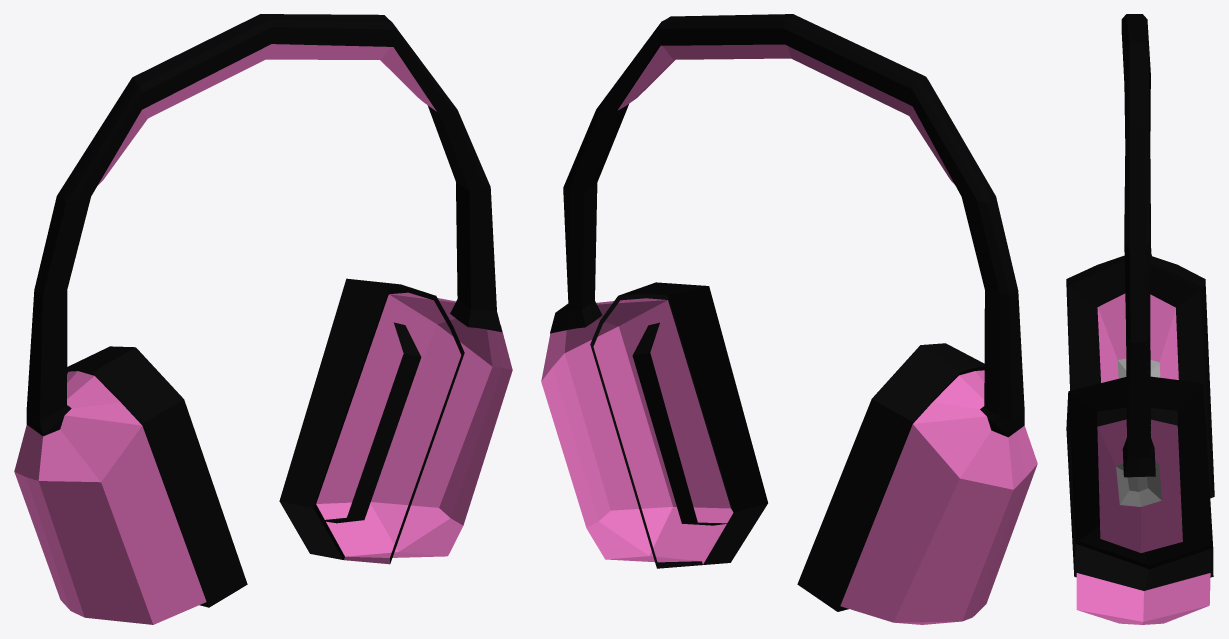
Rendered from headphones.glb.
3 views of the same model, side by side, from view 1: azimuth 30°, elevation 25°; view 2: azimuth 150°, elevation 25°; view 3: azimuth 270°, elevation 25° (orthographic). The views are drawn at different scales.
Visible parts, largest first — view 1: Cube; view 2: Cube; view 3: Cube.
Boxes of the visible parts, bbox=[...] form: Cube: bbox=[14, 14, 512, 624]; Cube: bbox=[541, 14, 1037, 624]; Cube: bbox=[1066, 14, 1214, 624].
Size of the model in its own units: 27.74 by 31.94 by 8.27.
